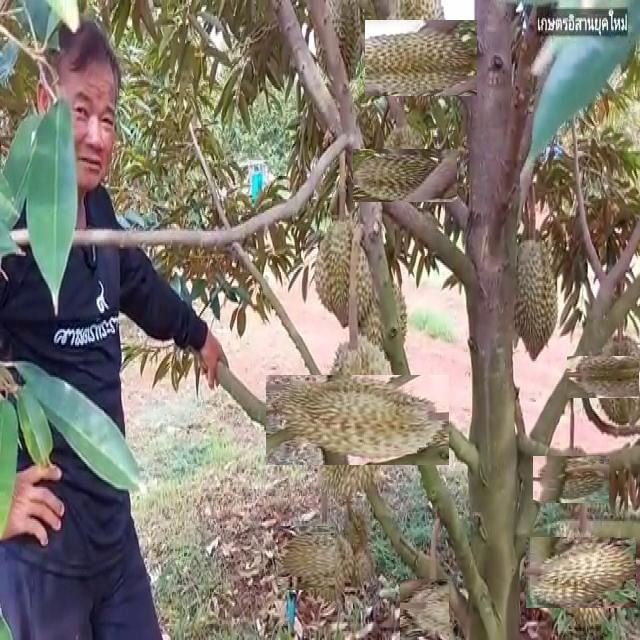durian: (288, 352, 426, 488), (374, 11, 469, 105), (536, 527, 627, 617), (312, 212, 376, 324), (511, 234, 561, 366), (286, 518, 366, 598), (366, 135, 444, 215), (345, 276, 411, 365), (312, 0, 365, 89), (581, 341, 640, 412), (540, 448, 602, 510), (335, 512, 378, 594), (394, 583, 454, 640)
